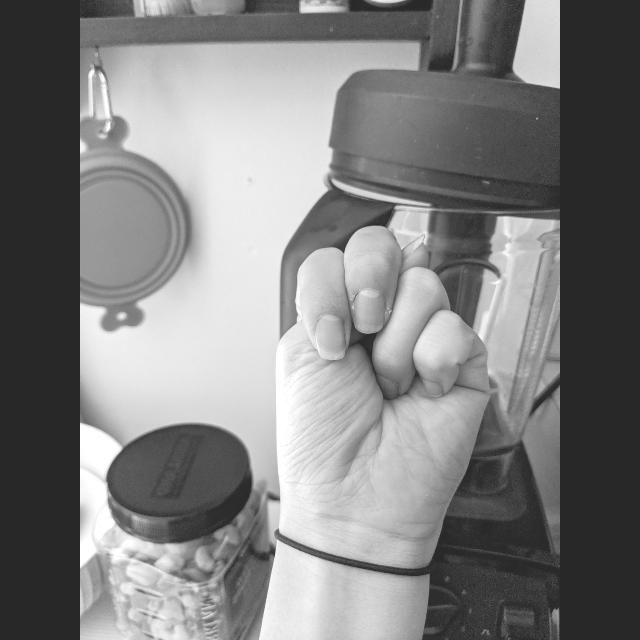N: (272, 222, 494, 548)
